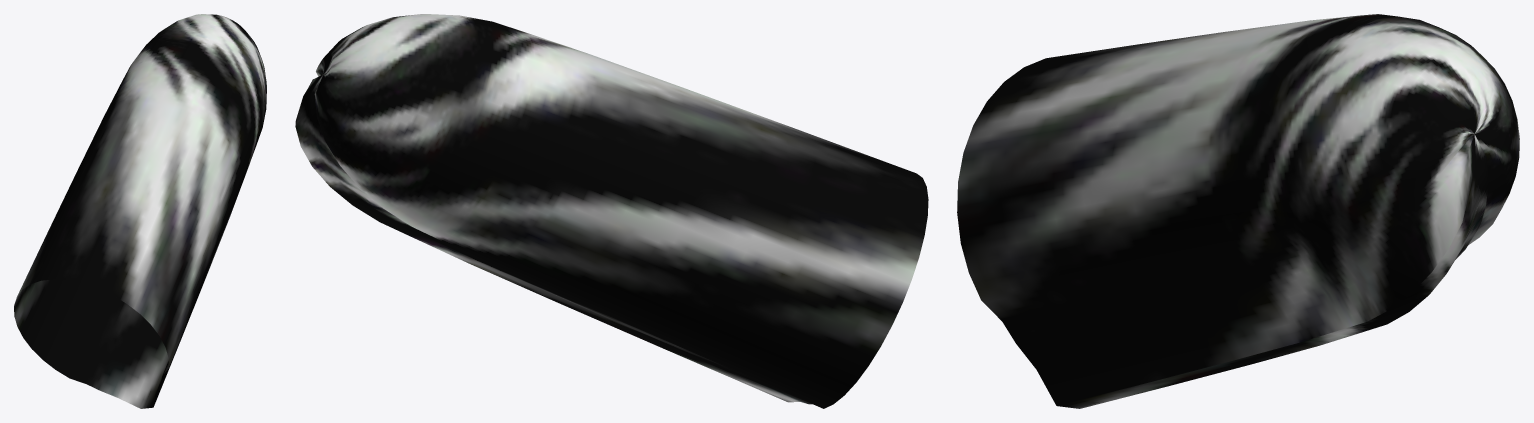
Rendered from effect_bzll_juexing_qiang_dongzuo #6527019.fbx.
The picture shows the model from 3 angles, left to right: view 1: azimuth 30°, elevation 25°; view 2: azimuth 150°, elevation 25°; view 3: azimuth 270°, elevation 25°; orthographic projection. The views are drawn at different scales.
Visible parts, largest first — view 1: effect_bzll_juexing_qiang; view 2: effect_bzll_juexing_qiang; view 3: effect_bzll_juexing_qiang.
Boxes of the visible parts, <box> form: effect_bzll_juexing_qiang: <box>14,14,266,408</box>; effect_bzll_juexing_qiang: <box>295,14,928,408</box>; effect_bzll_juexing_qiang: <box>957,14,1519,408</box>.
Size of the model in its own units: 0.6907 by 0.5781 by 0.584.
